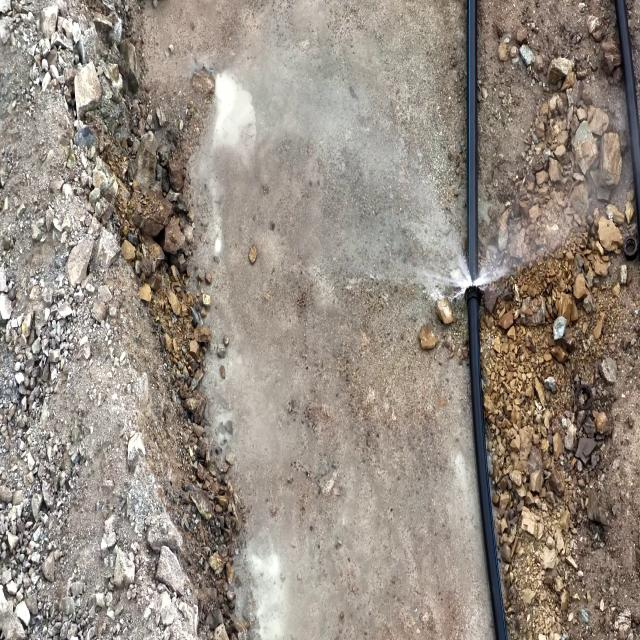leak: (400, 182, 550, 300)
